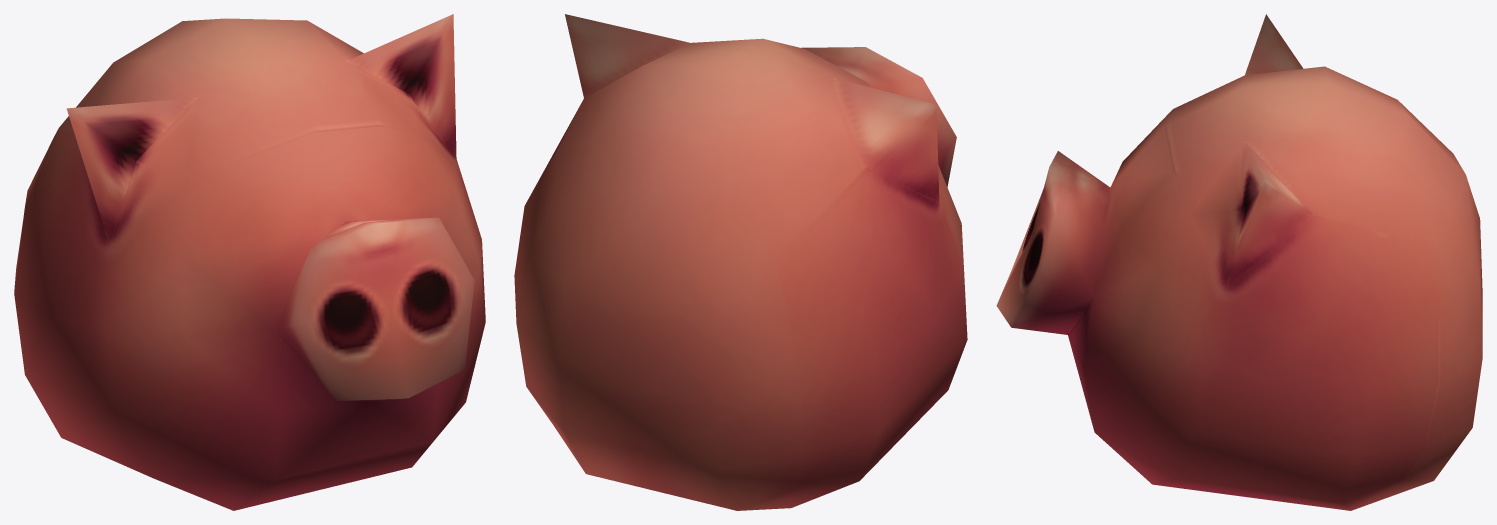
The model's file is head_pig_mesh.fbx.
3 views of the same model, side by side, from view 1: azimuth 30°, elevation 25°; view 2: azimuth 150°, elevation 25°; view 3: azimuth 270°, elevation 25° (orthographic). The views are drawn at different scales.
Visible parts, largest first — view 1: head_pig_mesh; view 2: head_pig_mesh; view 3: head_pig_mesh.
Part boxes in pixels (box(x1,y1,x2,y2)): head_pig_mesh: box(14, 14, 485, 510); head_pig_mesh: box(514, 14, 967, 510); head_pig_mesh: box(996, 14, 1482, 510).
Size of the model in its own units: 1.05 by 1.07 by 1.21.
